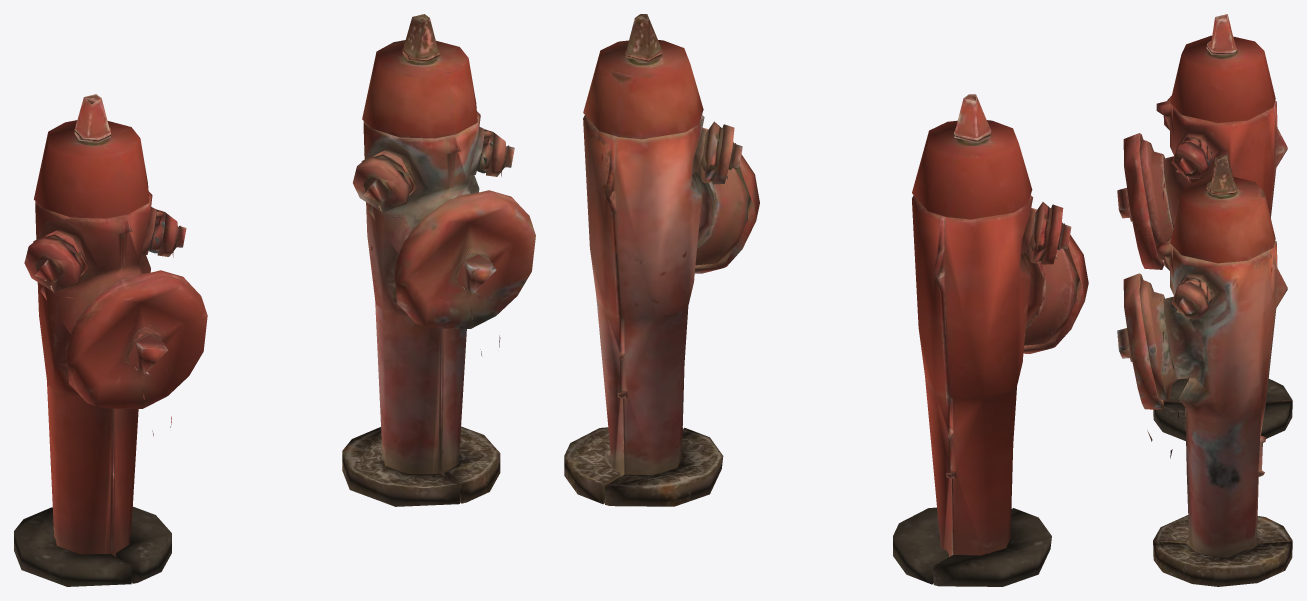
Rendered from fire_hydrant.glb.
3 views of the same model, side by side, from view 1: azimuth 30°, elevation 25°; view 2: azimuth 150°, elevation 25°; view 3: azimuth 270°, elevation 25° (orthographic). The views are drawn at different scales.
Visible parts, largest first — view 1: fire_hydrant_aged, fire_hydrant; view 2: fire_hydrant_aged, fire_hydrant; view 3: fire_hydrant_aged, fire_hydrant.
Boxes of the visible parts, <box> form: fire_hydrant_aged: <box>342,14,535,506</box>; fire_hydrant: <box>14,94,207,586</box>; fire_hydrant_aged: <box>564,14,759,506</box>; fire_hydrant: <box>893,94,1088,586</box>; fire_hydrant_aged: <box>1117,154,1292,586</box>; fire_hydrant: <box>1117,14,1292,440</box>.
Bounding box in the file's own units: 0.8728 × 0.7992 × 0.3173.
Materials: 2 (2 with a texture image).
